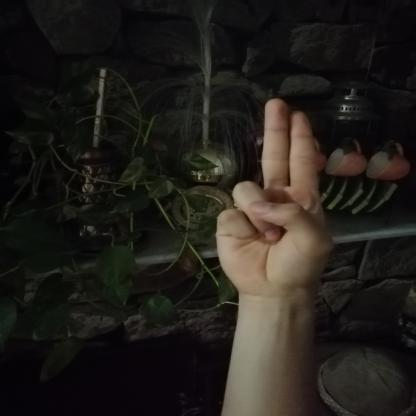TA: (198, 88, 354, 302)
